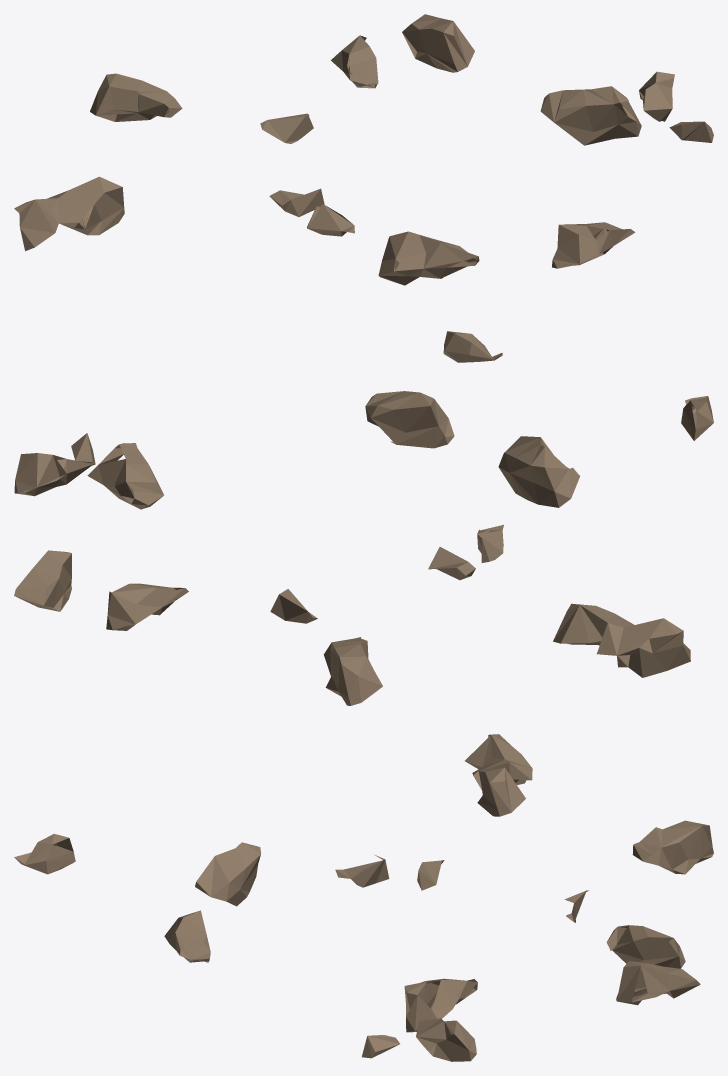
File: pebbles-scatter-lod1.glb
3 views of the same model, one above another, from view 1: azimuth 30°, elevation 25°; view 2: azimuth 150°, elevation 25°; view 3: azimuth 270°, elevation 25° (orthographic). The views are drawn at different scales.
Bounding box in the file's own units: 1.49 × 0.1214 × 1.48.
